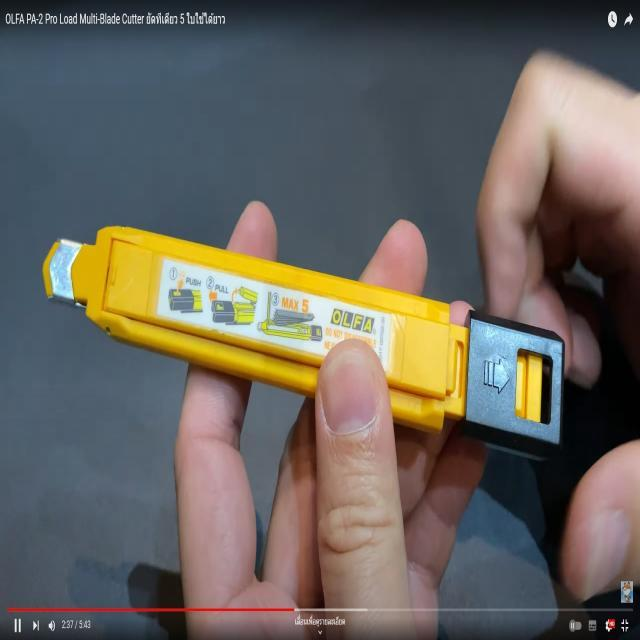cutter: (0, 160, 640, 494)
